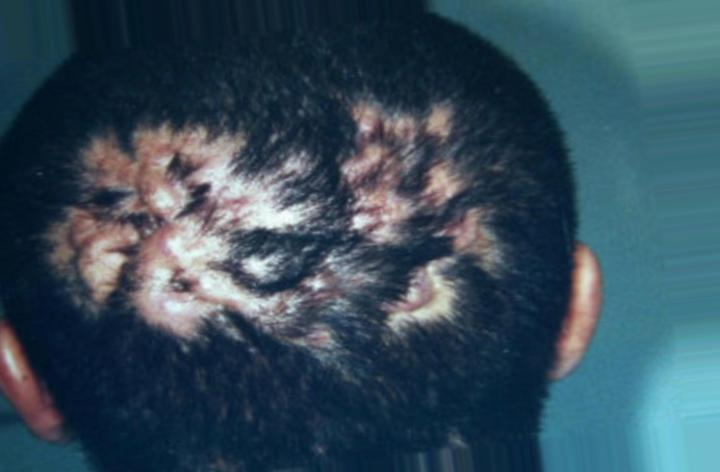Folliculitis: (55, 94, 500, 350)
